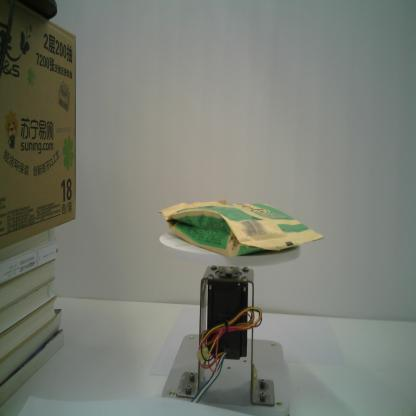Dried Food: (154, 194, 326, 262)
